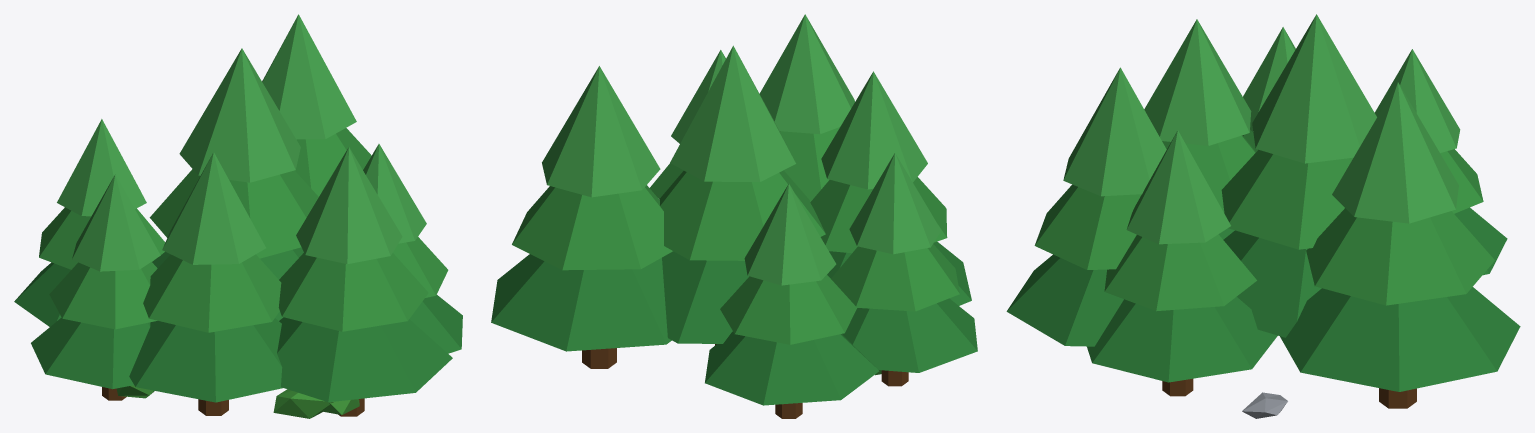
File: fe-forest-a-BJMW3SFP.glb
3 renders of one model, left to right at view 1: azimuth 30°, elevation 25°; view 2: azimuth 150°, elevation 25°; view 3: azimuth 270°, elevation 25°, orthographic. The views are drawn at different scales.
Visible parts, largest first — view 1: Cylinder; view 2: Cylinder; view 3: Cylinder.
Boxes of the visible parts, x1=… form: Cylinder: x1=14, y1=14, x2=462, y2=418; Cylinder: x1=491, y1=14, x2=977, y2=418; Cylinder: x1=1006, y1=14, x2=1520, y2=418.
Size of the model in its own units: 1.09 by 0.7854 by 1.07.
